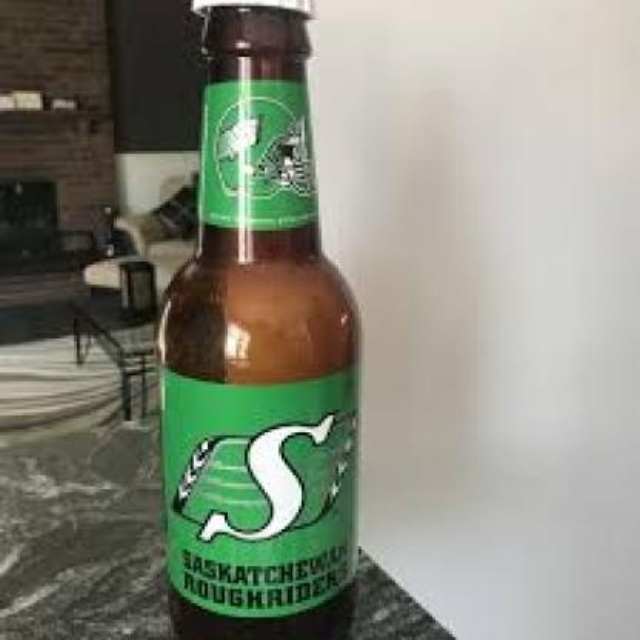trash: (162, 0, 355, 615)
